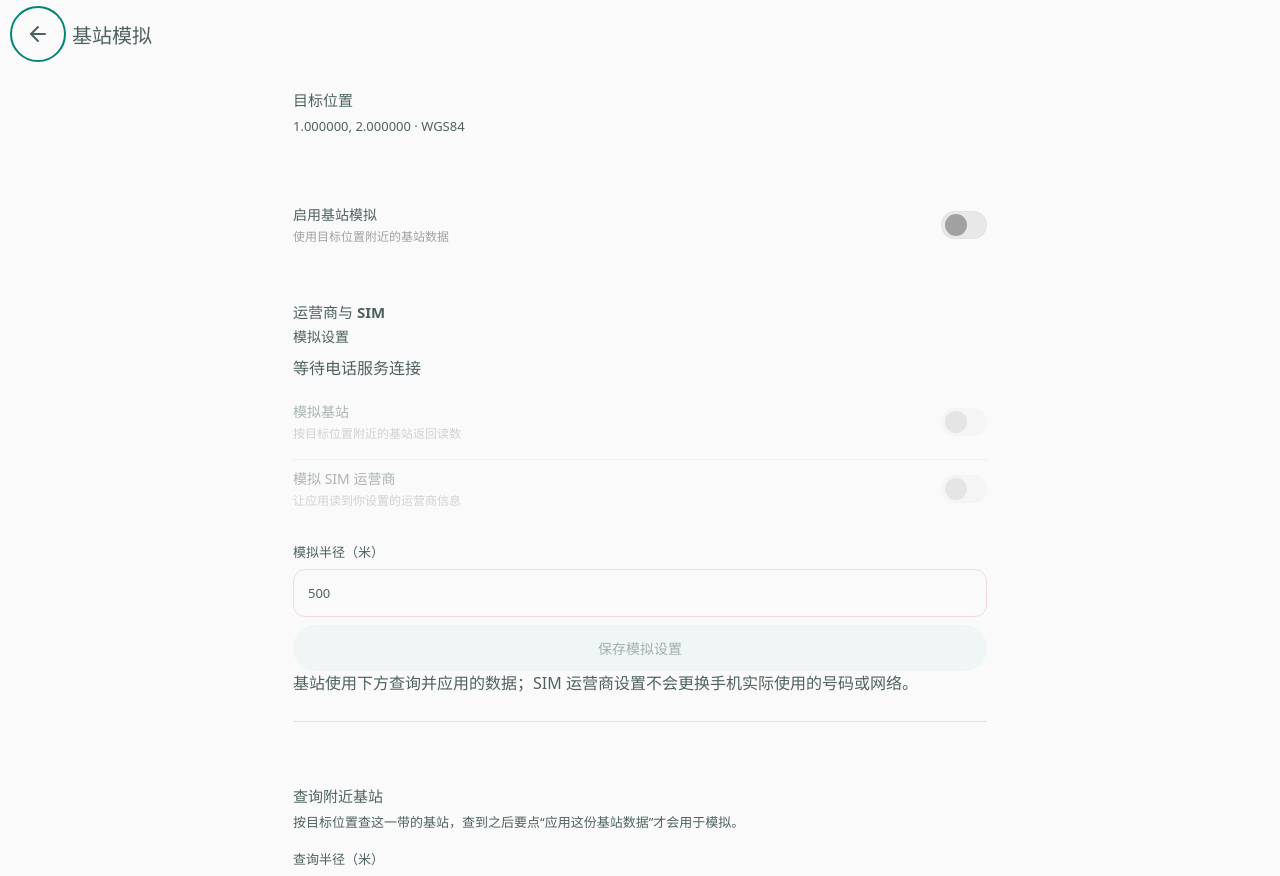
Test case: writes the master switch straight to the backend instead of waiting for a save
Click the checkbox labelled "启用基站模拟" at (964, 225), box [941,211,987,239]
(page scrolled)
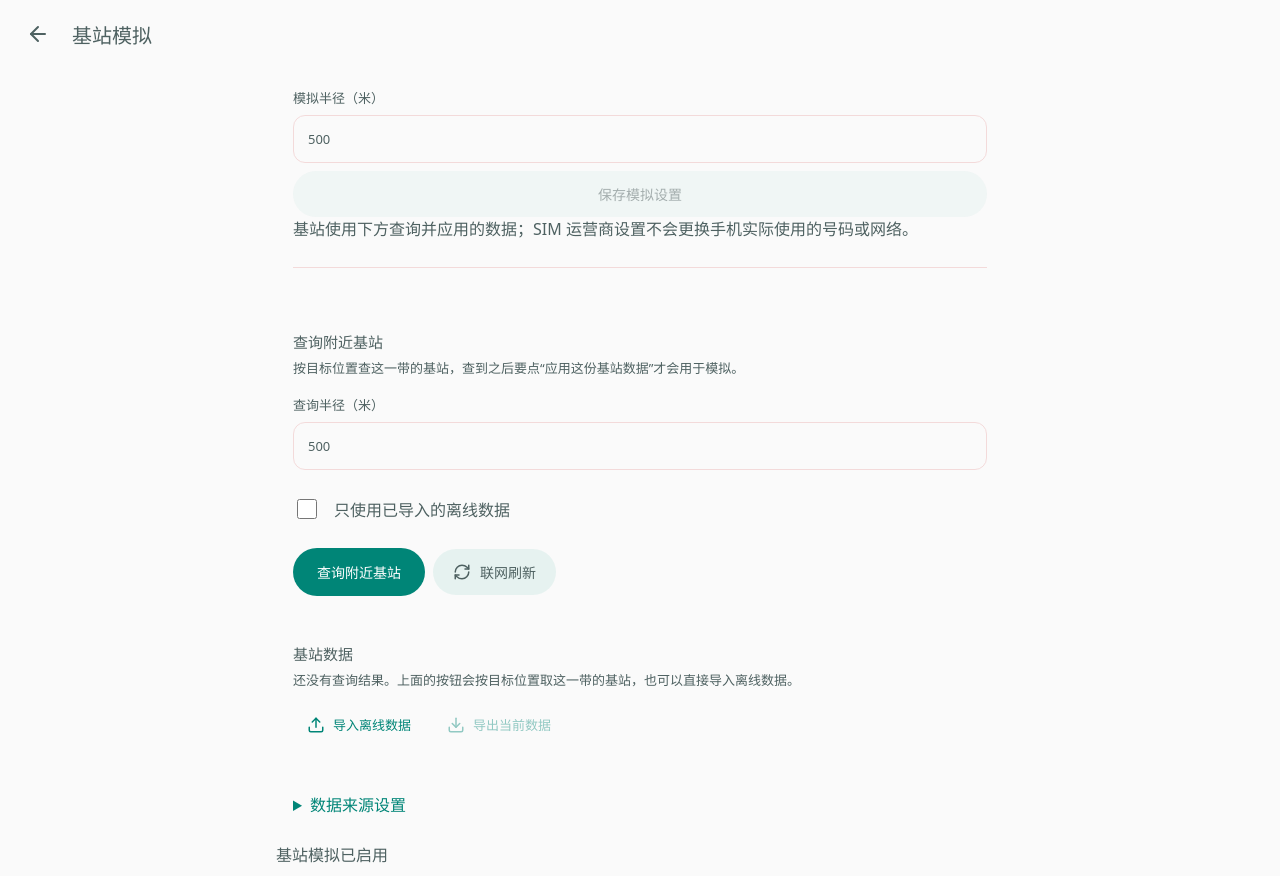
Expected: the text "基站模拟已启用" is shown, [276,844,388,866]
